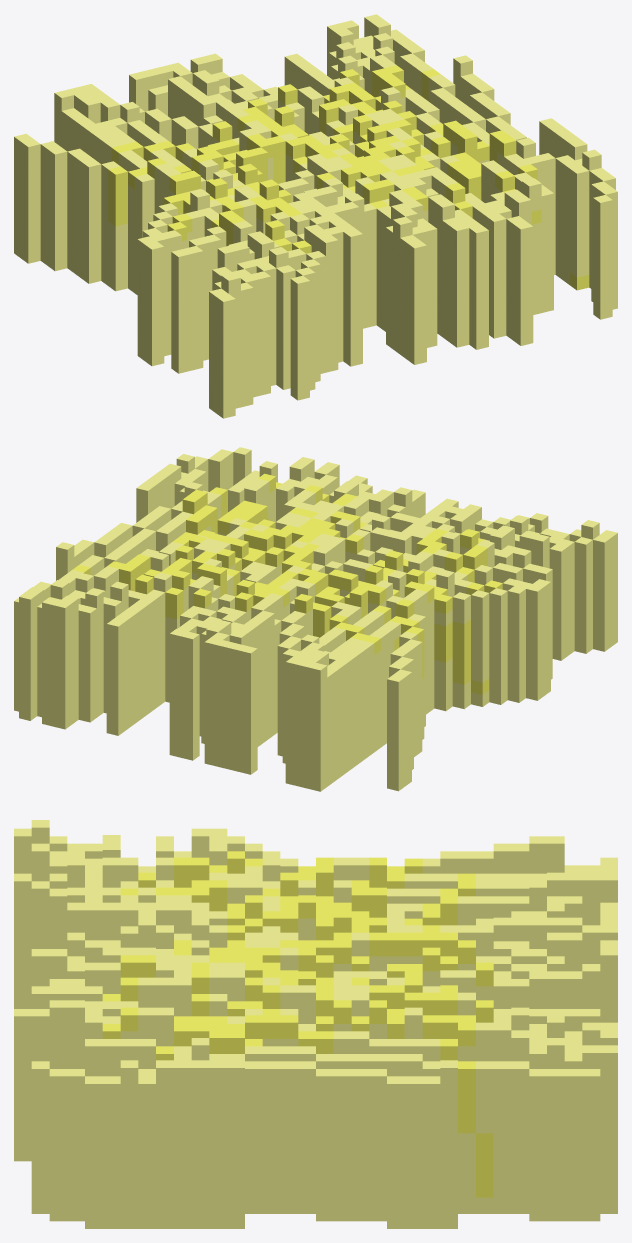
Rendered from CutCheese.obj.
3 renders of one model, top to bottom at view 1: azimuth 30°, elevation 25°; view 2: azimuth 150°, elevation 25°; view 3: azimuth 270°, elevation 25°, orthographic. The views are drawn at different scales.
Bounding box in the file's own units: 3.4 × 1 × 3.4.
1 material, 1 textured.
